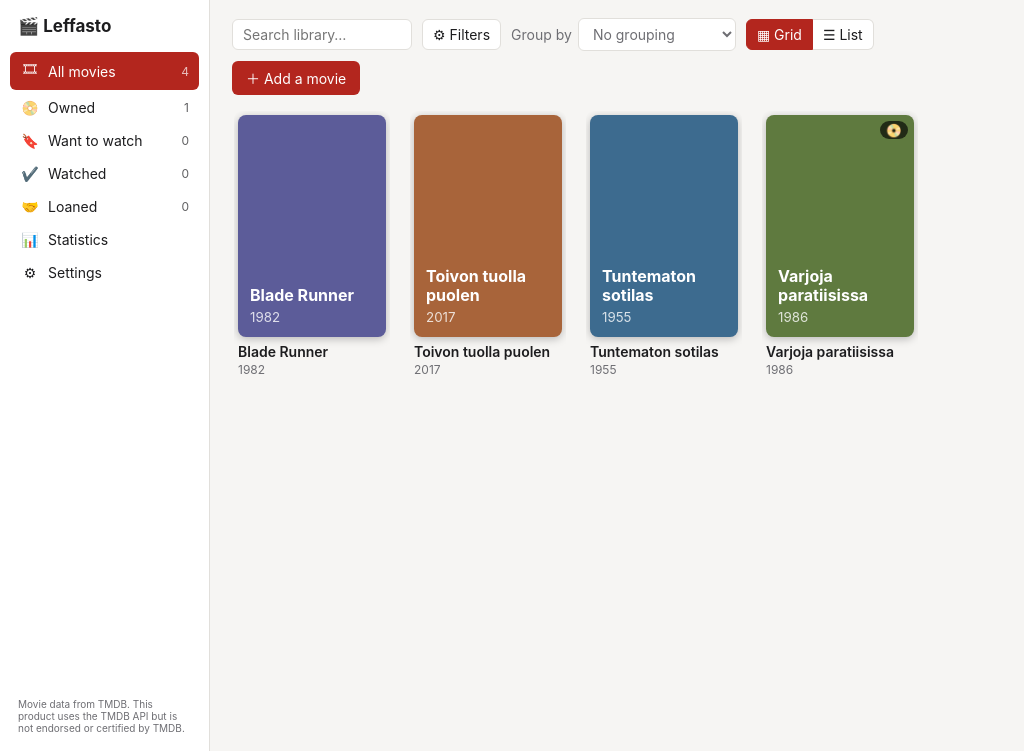
Test case: loans in the UI › lend, see it, find it under Loaned, mark returned
Click the 1st text "Varjoja paratiisissa" at (823, 285), box [778, 266, 868, 305]
(page scrolled)
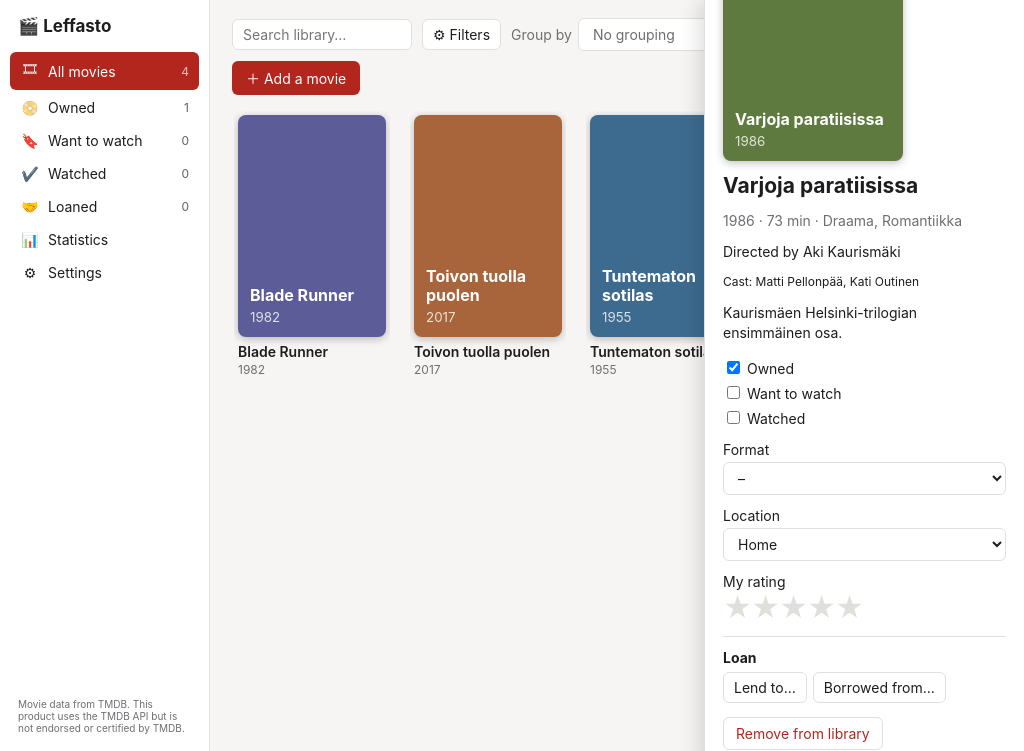
Click the button "Lend to…" at (765, 687), box [723, 672, 807, 703]
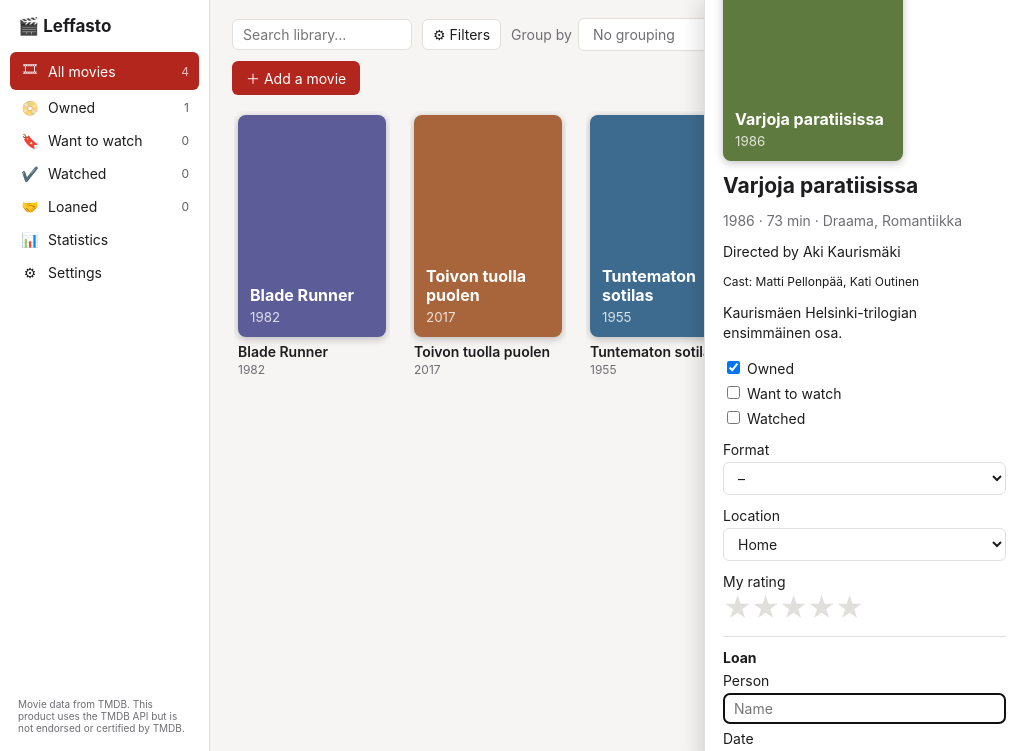
Type "Maija" into the field with placeholder "Name" at (864, 708), box [723, 693, 1006, 724]
(page scrolled)
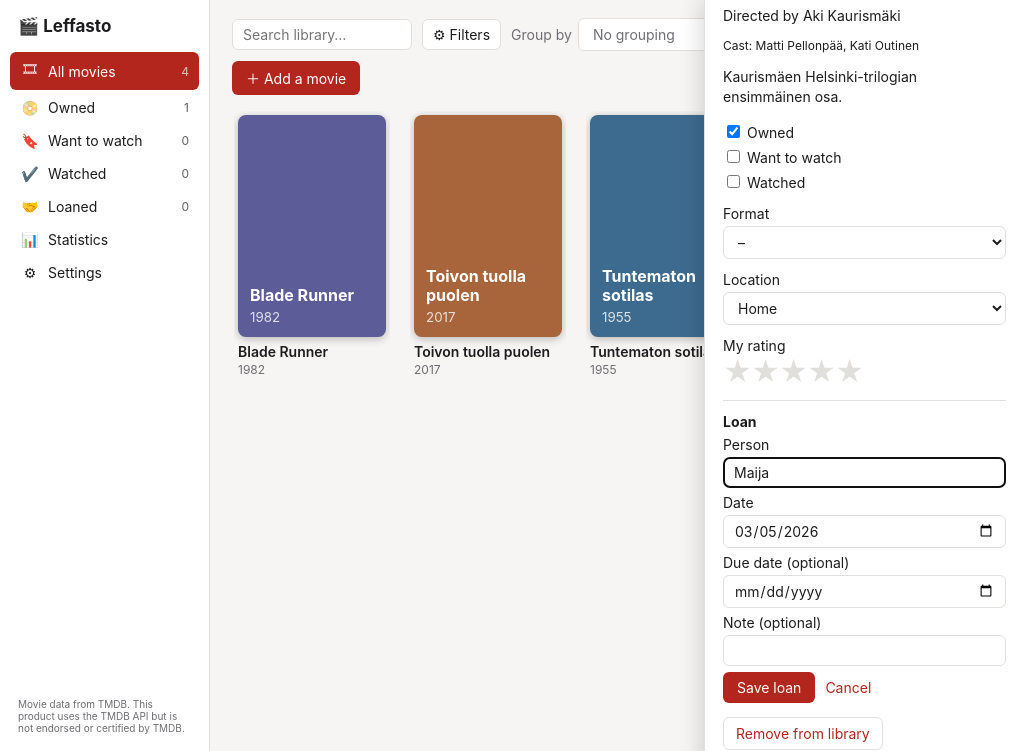
Type "2026-02-20" into the date field labelled "Date" at (864, 531), box [723, 515, 1006, 548]
Type "2026-03-01" into the date field labelled "Due date (optional)" at (864, 591), box [723, 575, 1006, 608]
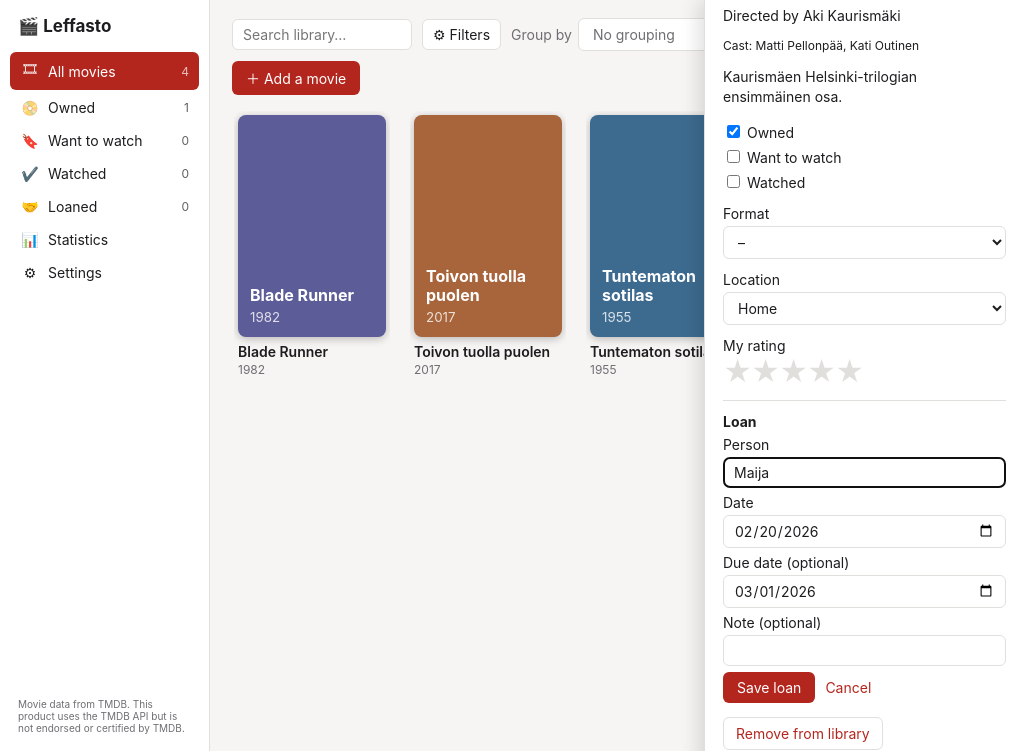
Click the button "Save loan" at (769, 687), box [723, 672, 815, 703]
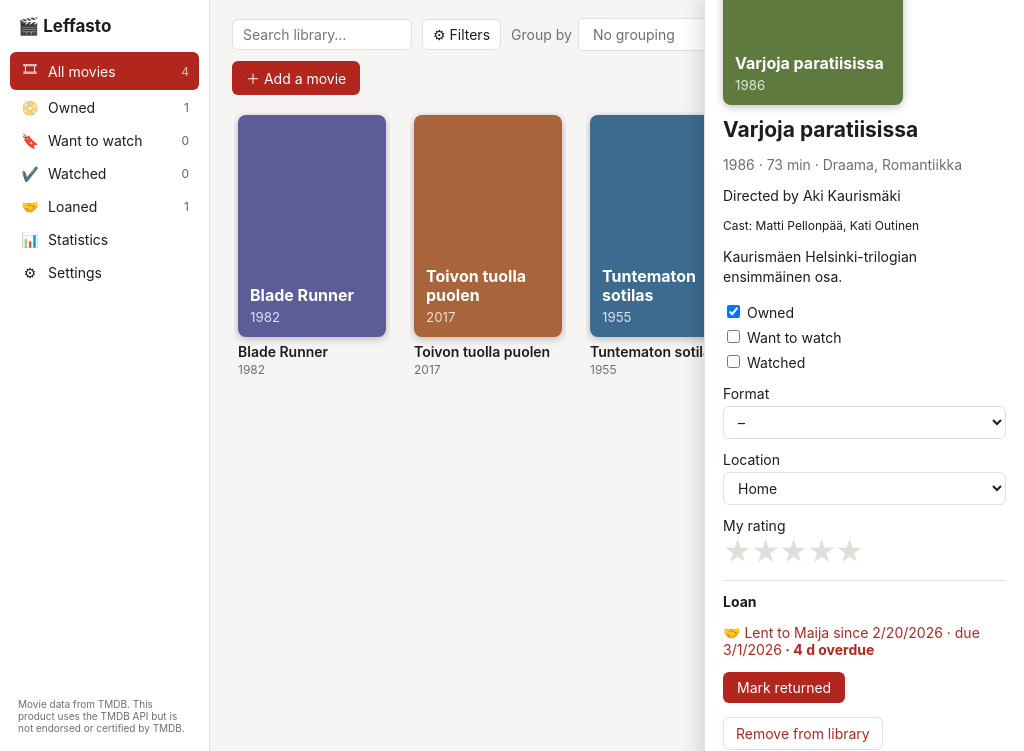
Now the text "🤝 Lent to Maija since 2/20/2026 · due 3/1/2026 · 4 d overdue" is shown, box [723, 624, 1006, 658]
Now the text "· 4 d overdue" is shown, box [782, 641, 874, 658]
Click the button "Mark returned" at (784, 687), box [723, 672, 845, 703]
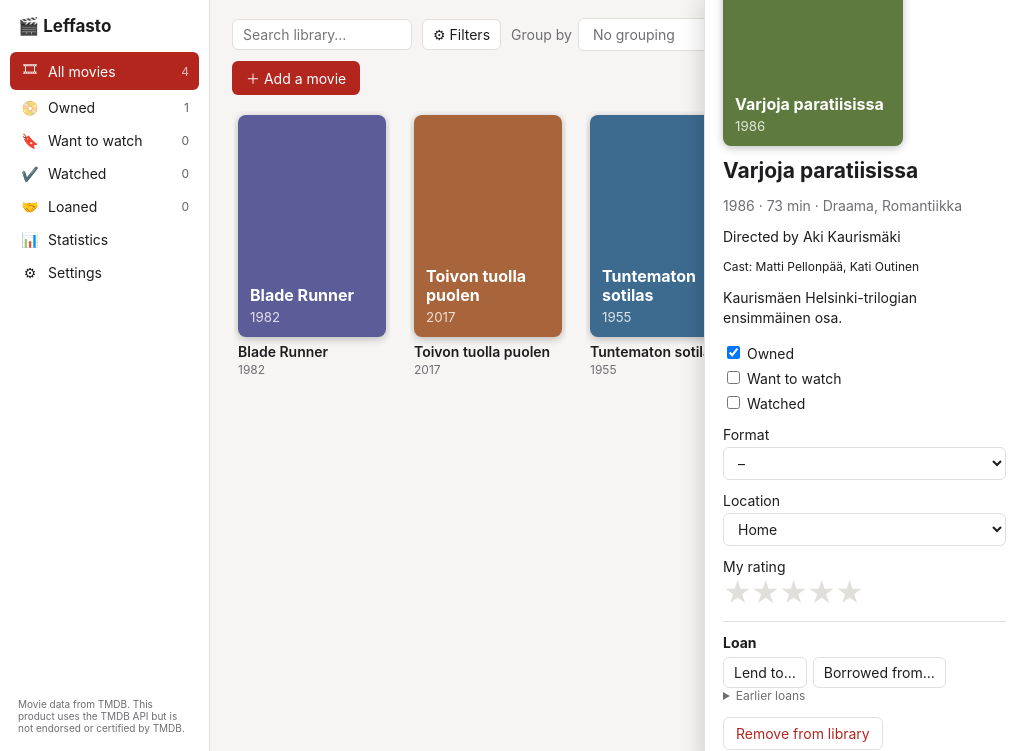
Now the text "Lent to Maija since" is gone
Now the button "Mark returned" is gone
Now the heading "Earlier loans" is shown, box [736, 688, 806, 703]
